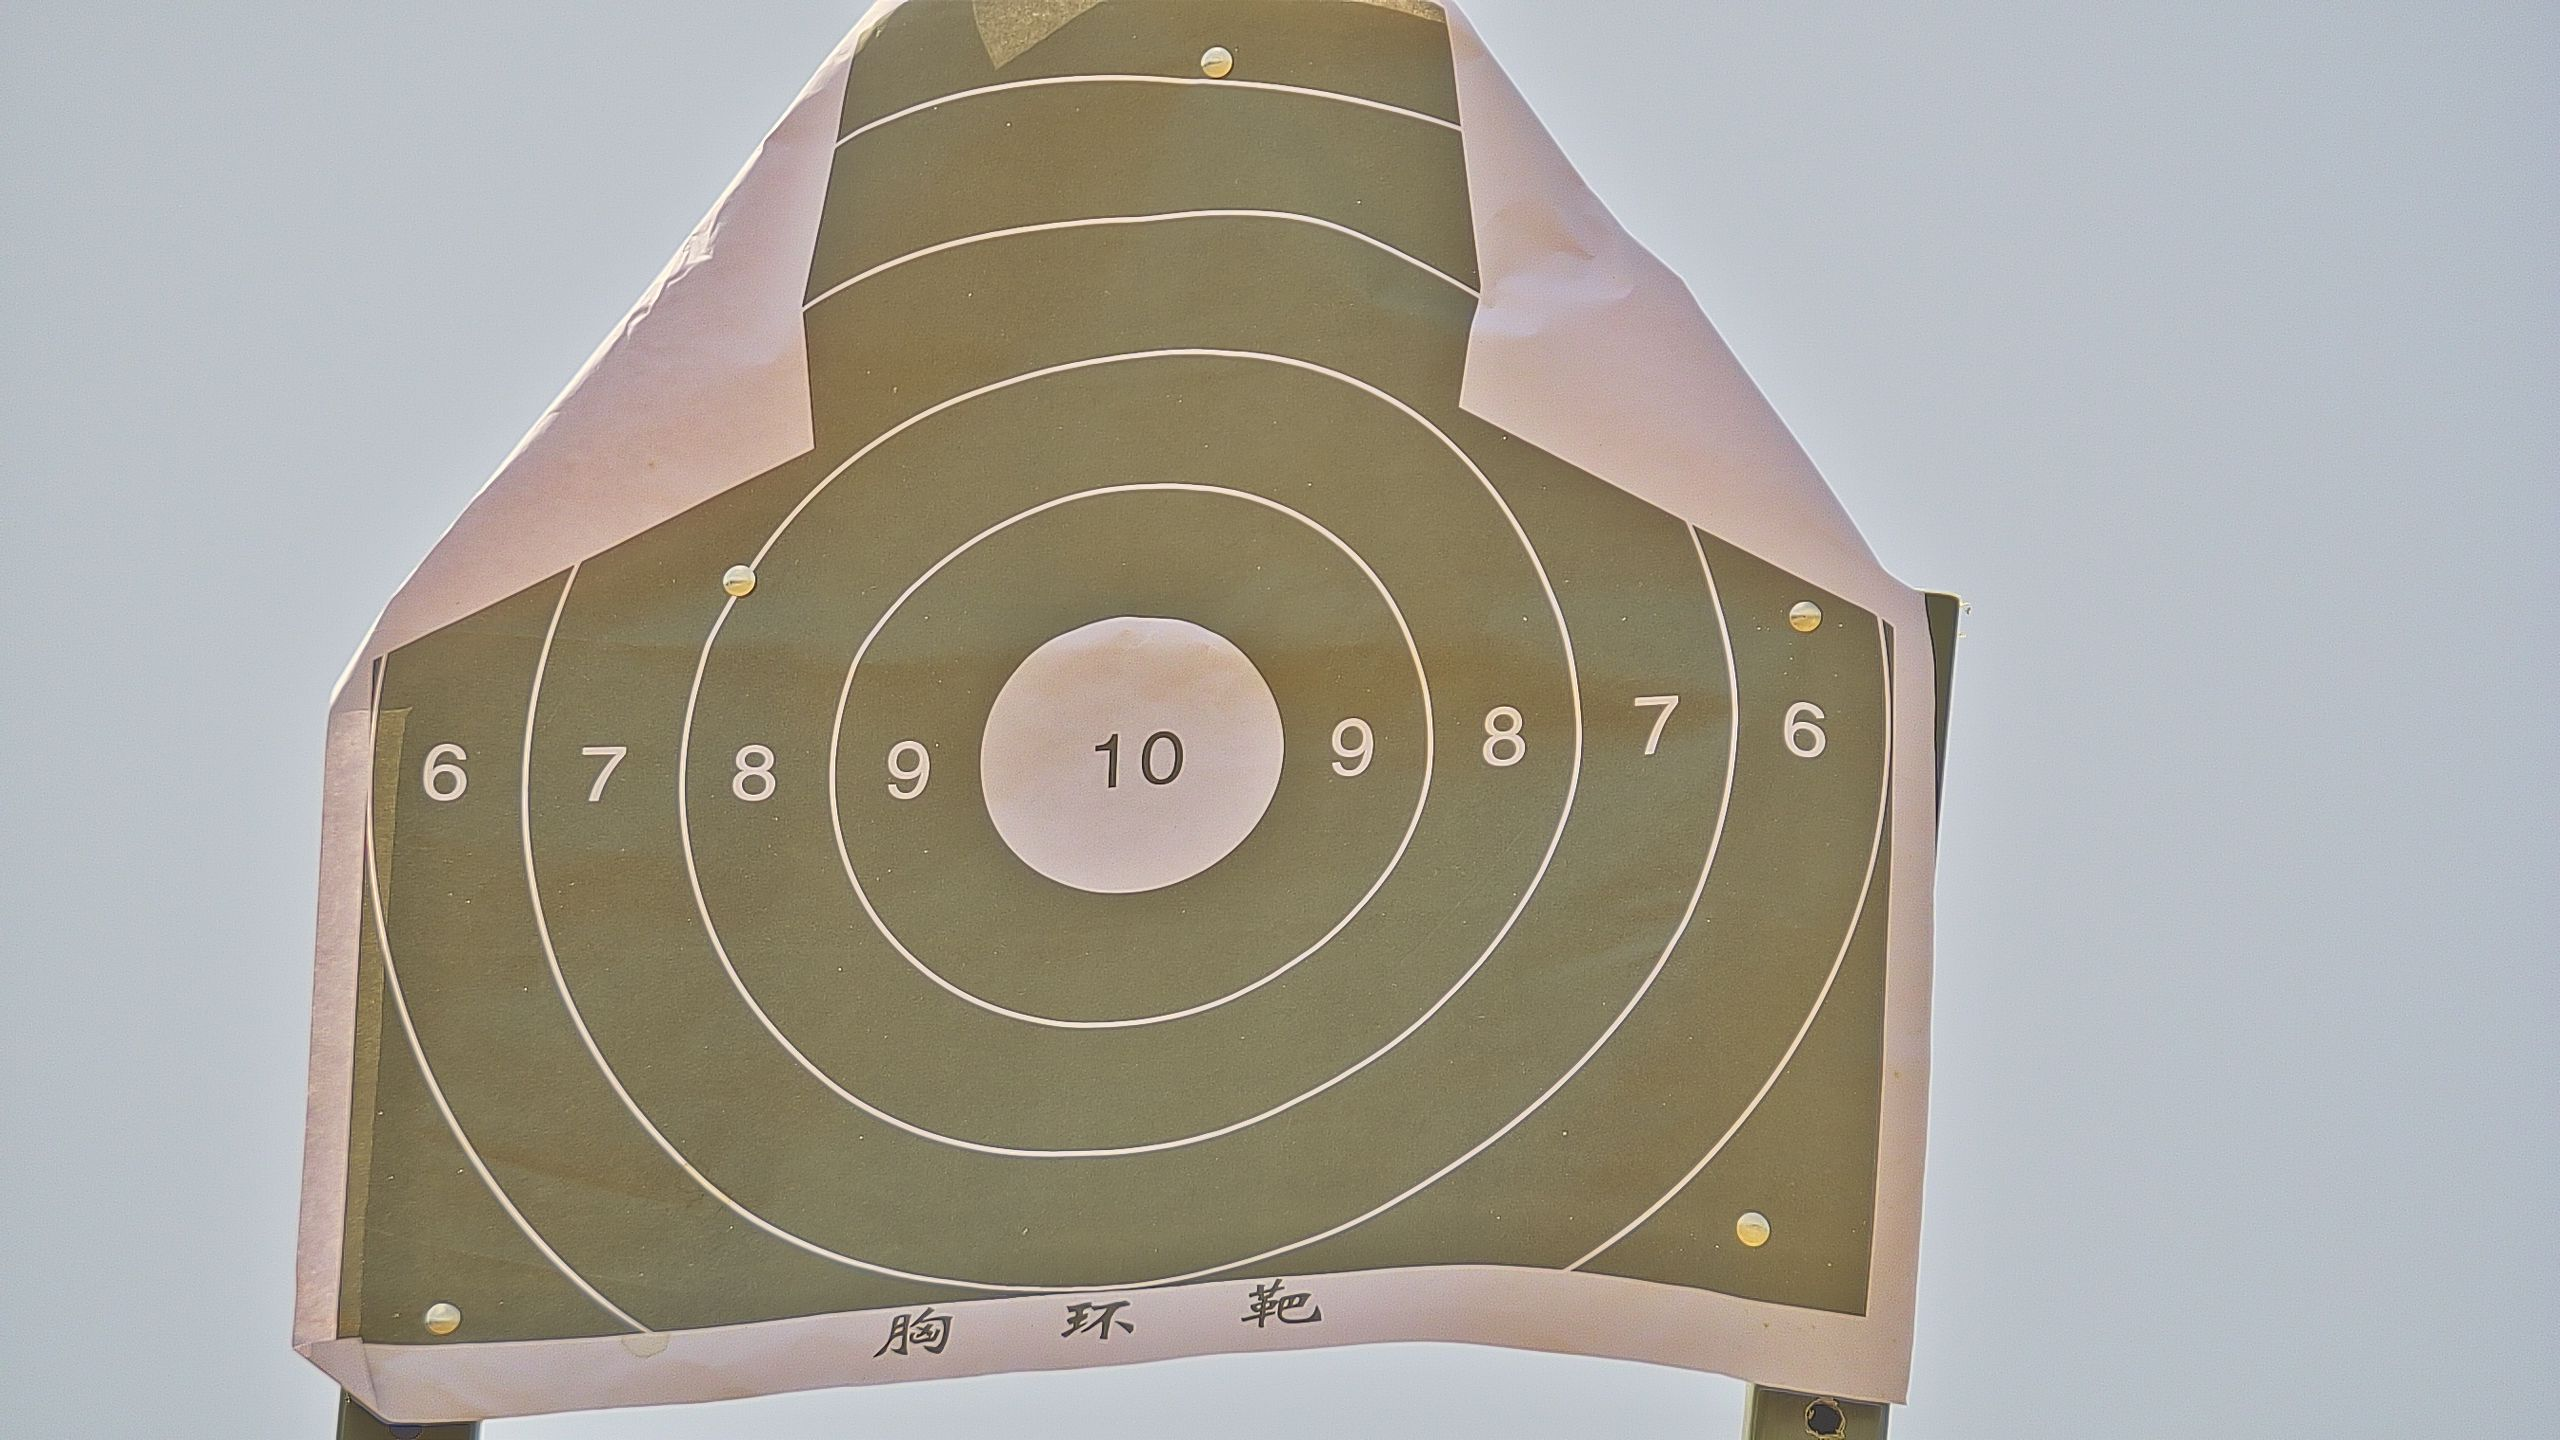target: (322, 5, 1890, 1340)
ten: (981, 612, 1291, 900)
